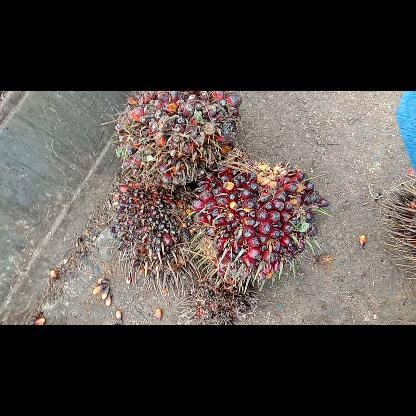TBS abnormal: (102, 176, 212, 298), (181, 260, 263, 324)
TBS masak: (183, 158, 331, 296), (110, 92, 244, 194)
